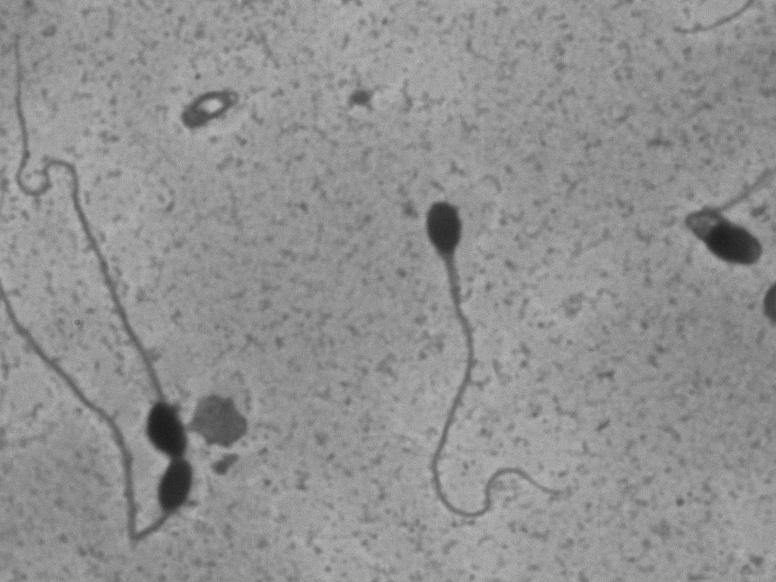Normal: (381, 167, 580, 527)
